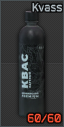Premium Kvass "Norvinskiy Yadreniy" 0.6L bottle: (0, 0, 64, 127)
